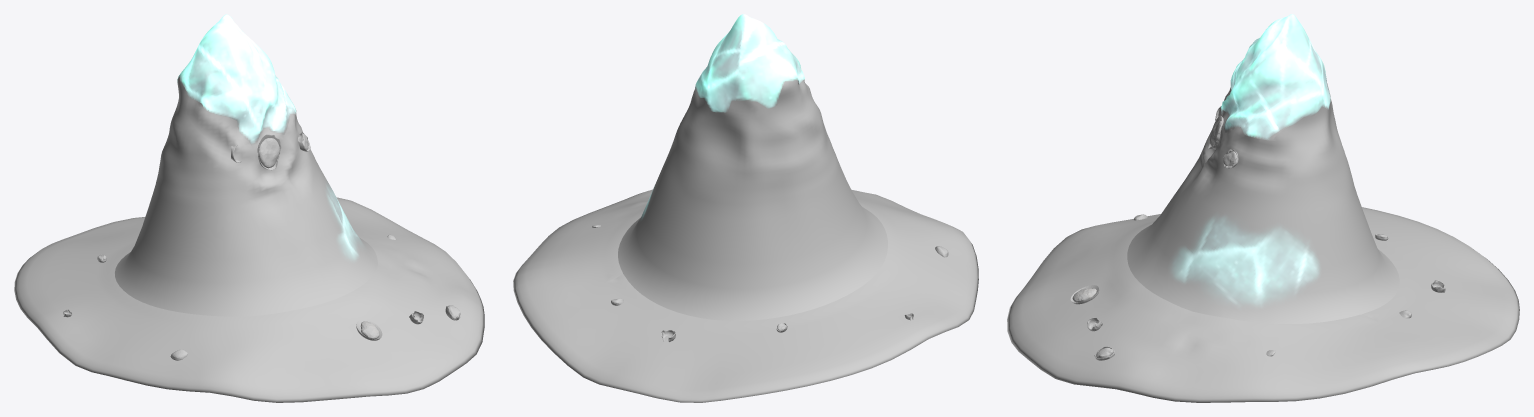
Rendered from uploads_files_3864582_MagicHat.fbx.
The picture shows the model from 3 angles, left to right: view 1: azimuth 30°, elevation 25°; view 2: azimuth 150°, elevation 25°; view 3: azimuth 270°, elevation 25°; orthographic projection. The views are drawn at different scales.
Visible parts, largest first — view 1: MagicHat; view 2: MagicHat; view 3: MagicHat.
Part boxes in pixels (x1,y1,x2,y2): MagicHat: (14,14,484,402); MagicHat: (513,14,978,402); MagicHat: (1007,14,1519,402).
Size of the model in its own units: 177 by 127 by 195.
